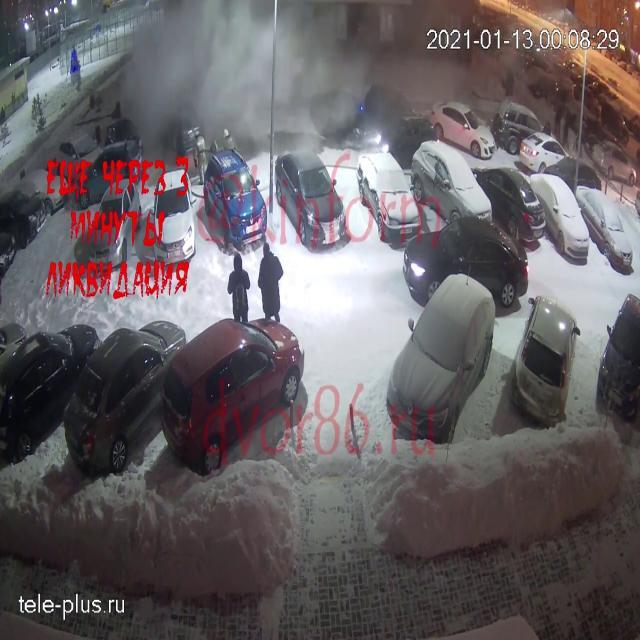Smoke: (118, 0, 364, 151)
